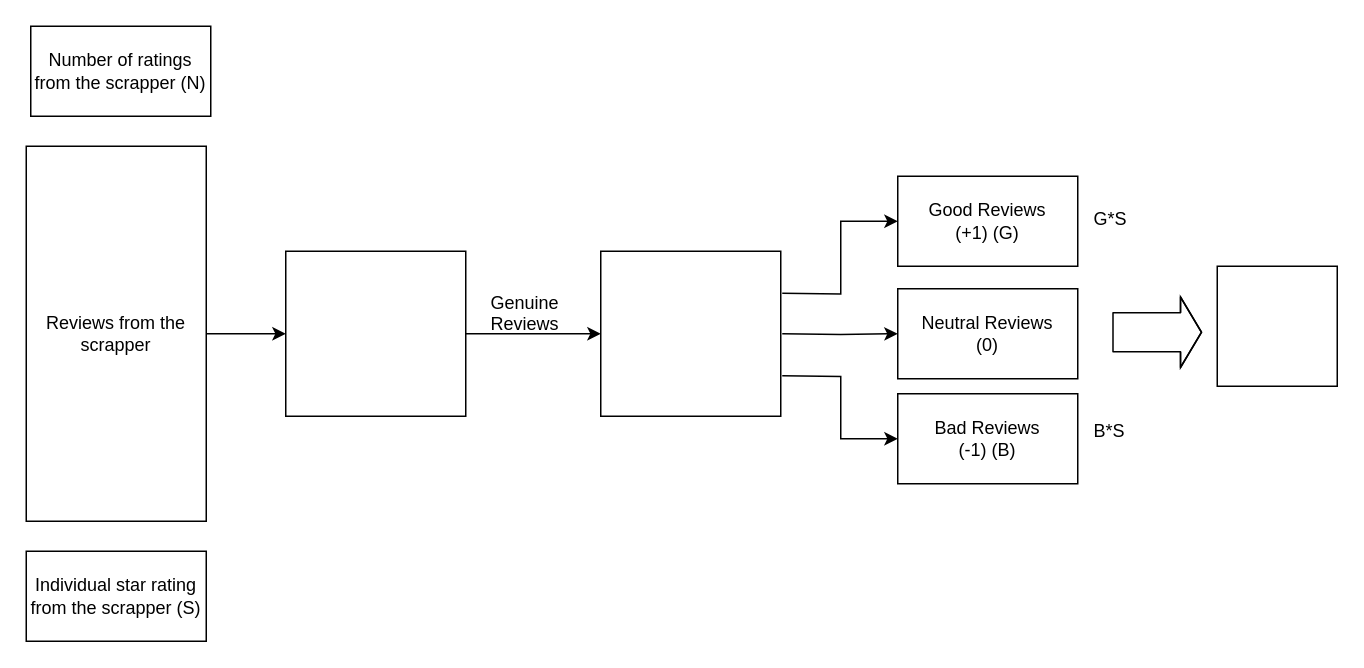
Image size: 1364x668. Some labels were removed from this diagram. Here are the shapes that lost their labels. From the top down, the box of each, then its label:
(284, 250, 466, 416): CNN
(599, 250, 781, 416): Sentiment Analysis
(1216, 265, 1337, 386): Final Rating = (G*S + B*S)/N
